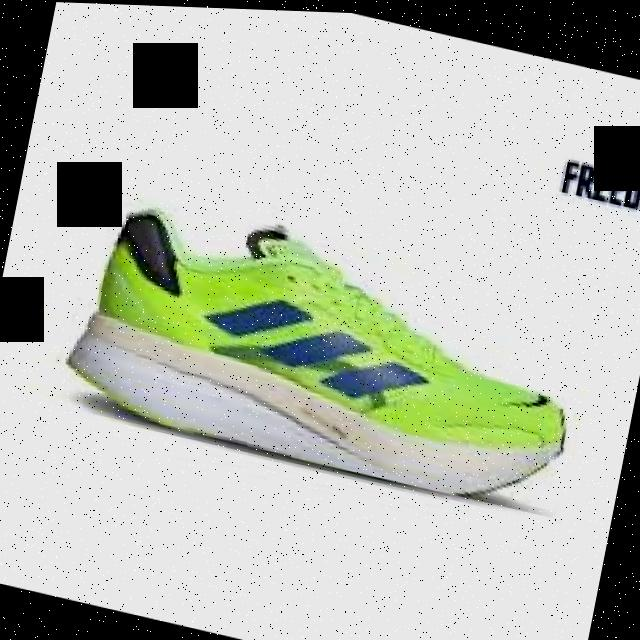shoe: (36, 175, 596, 515)
